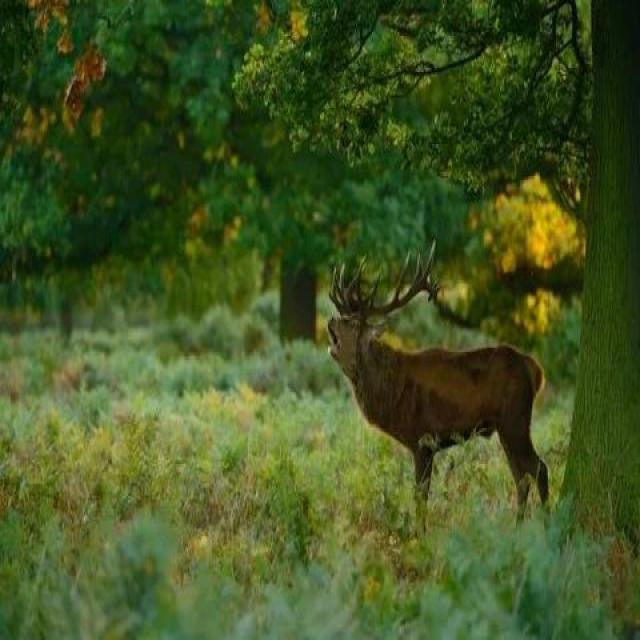deer: (280, 226, 556, 554)
